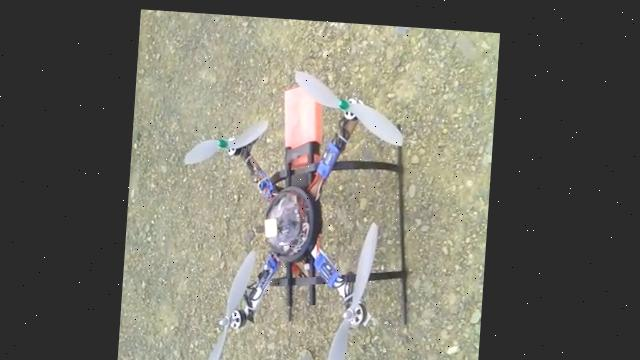drone: (170, 59, 424, 360)
